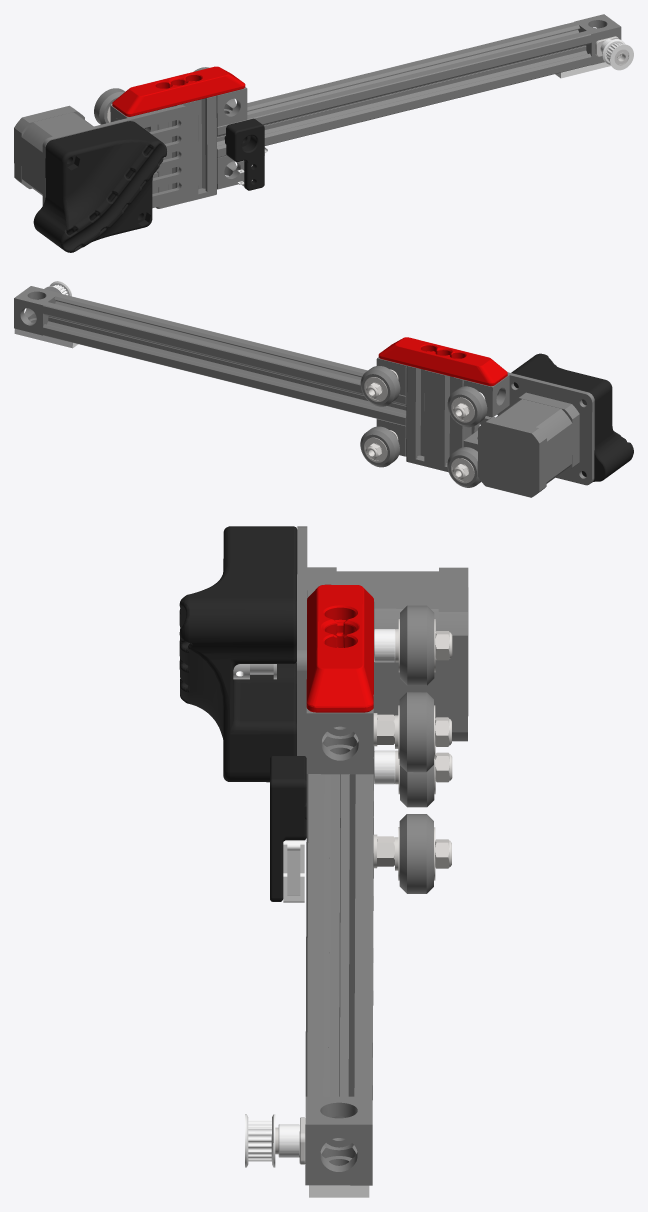
Rendered from crane-arm-assembly.gltf.
The picture shows the model from 3 angles, top to bottom: view 1: azimuth 30°, elevation 25°; view 2: azimuth 150°, elevation 25°; view 3: azimuth 270°, elevation 25°; orthographic projection. The views are drawn at different scales.
Parts seen in each view (by area): view 1: mesh 4 Cube Corner Connector-1-2.001; view 2: mesh 4 Cube Corner Connector-1-2.001; view 3: mesh 4 Cube Corner Connector-1-2.001.
Boxes of the visible parts, x1,y1,x2,y2 form: mesh 4 Cube Corner Connector-1-2.001: [14, 14, 633, 252]; mesh 4 Cube Corner Connector-1-2.001: [14, 281, 633, 497]; mesh 4 Cube Corner Connector-1-2.001: [179, 526, 468, 1197].
Bounding box in the file's own units: 9.09 × 1.69 × 1.98.
